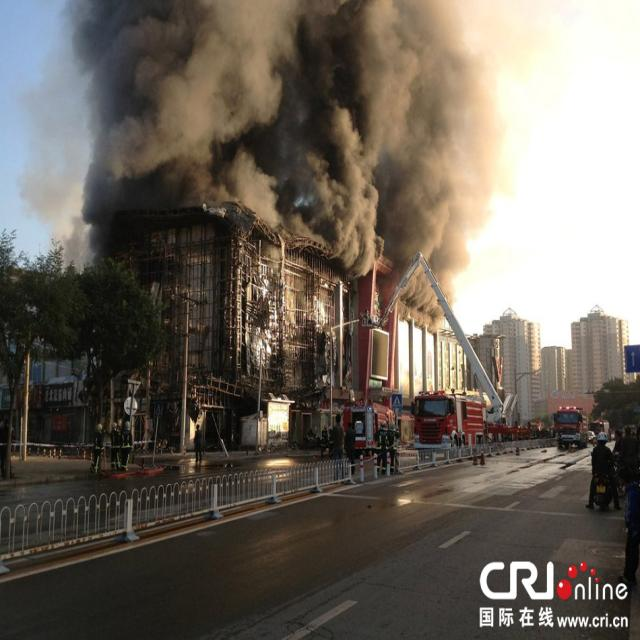smoke: (15, 4, 508, 330)
